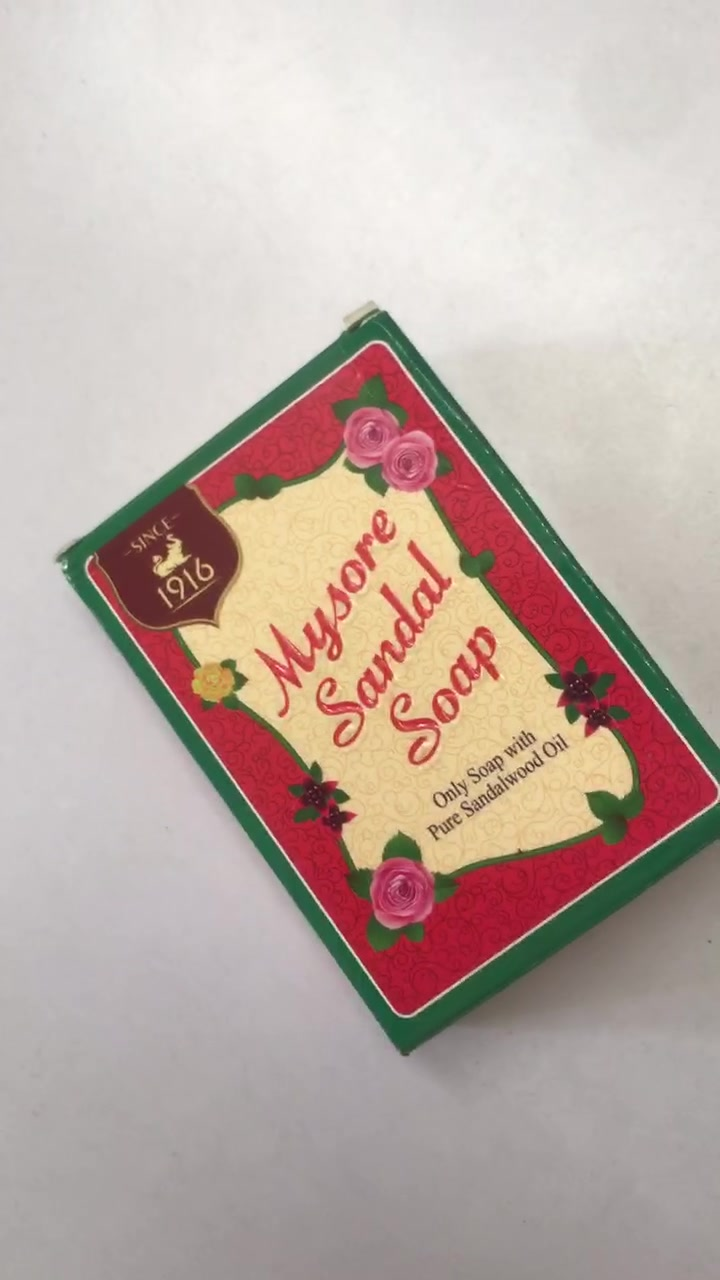mysore sandal soap: (62, 324, 720, 1058)
